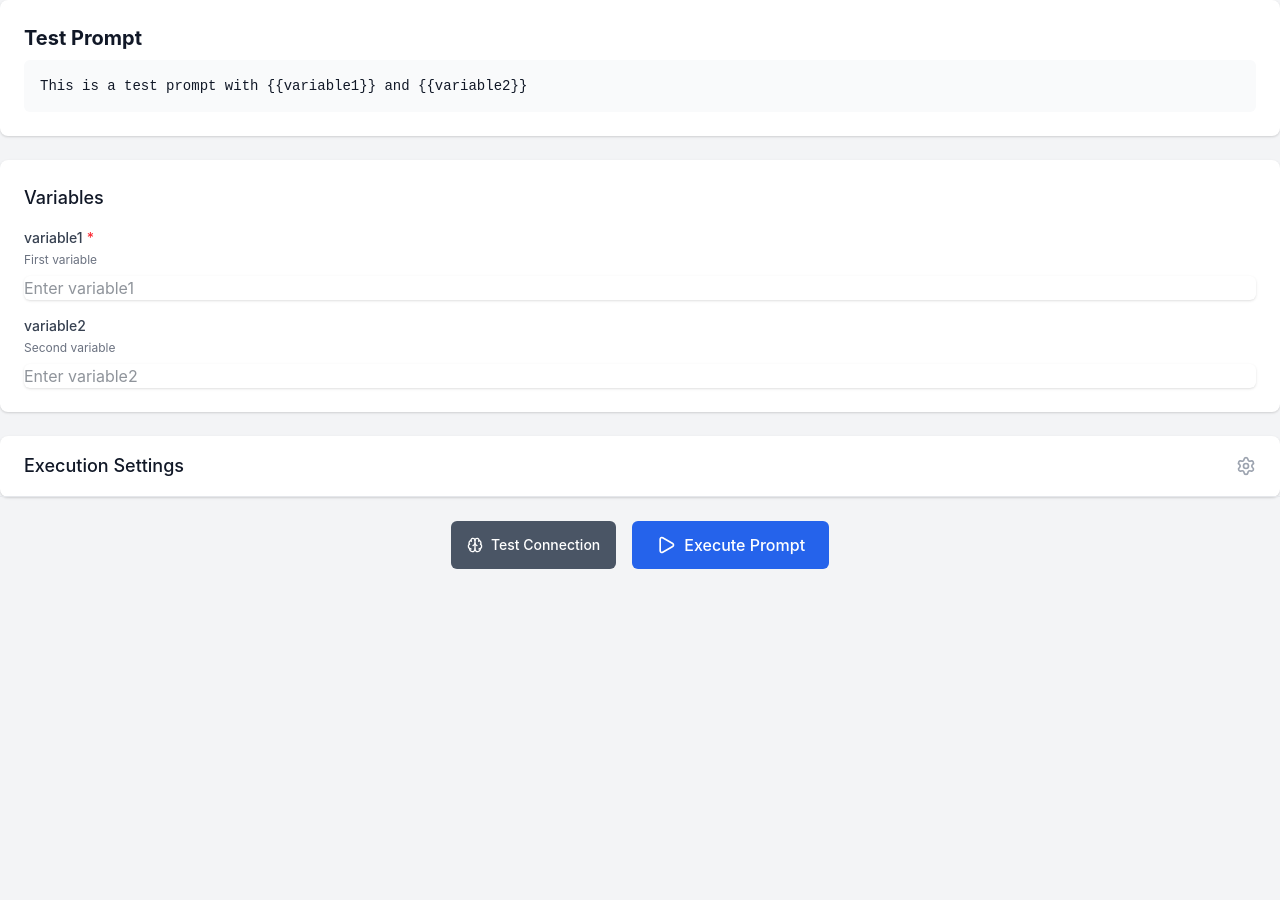
Test: PromptExecutor › allows enabling RAG and shows document selection
The width and height of the screenshot is (1280, 900).
// Open settings
Click the button "Execution Settings": (104, 466) top-left (24, 452), bottom-right (1256, 480)
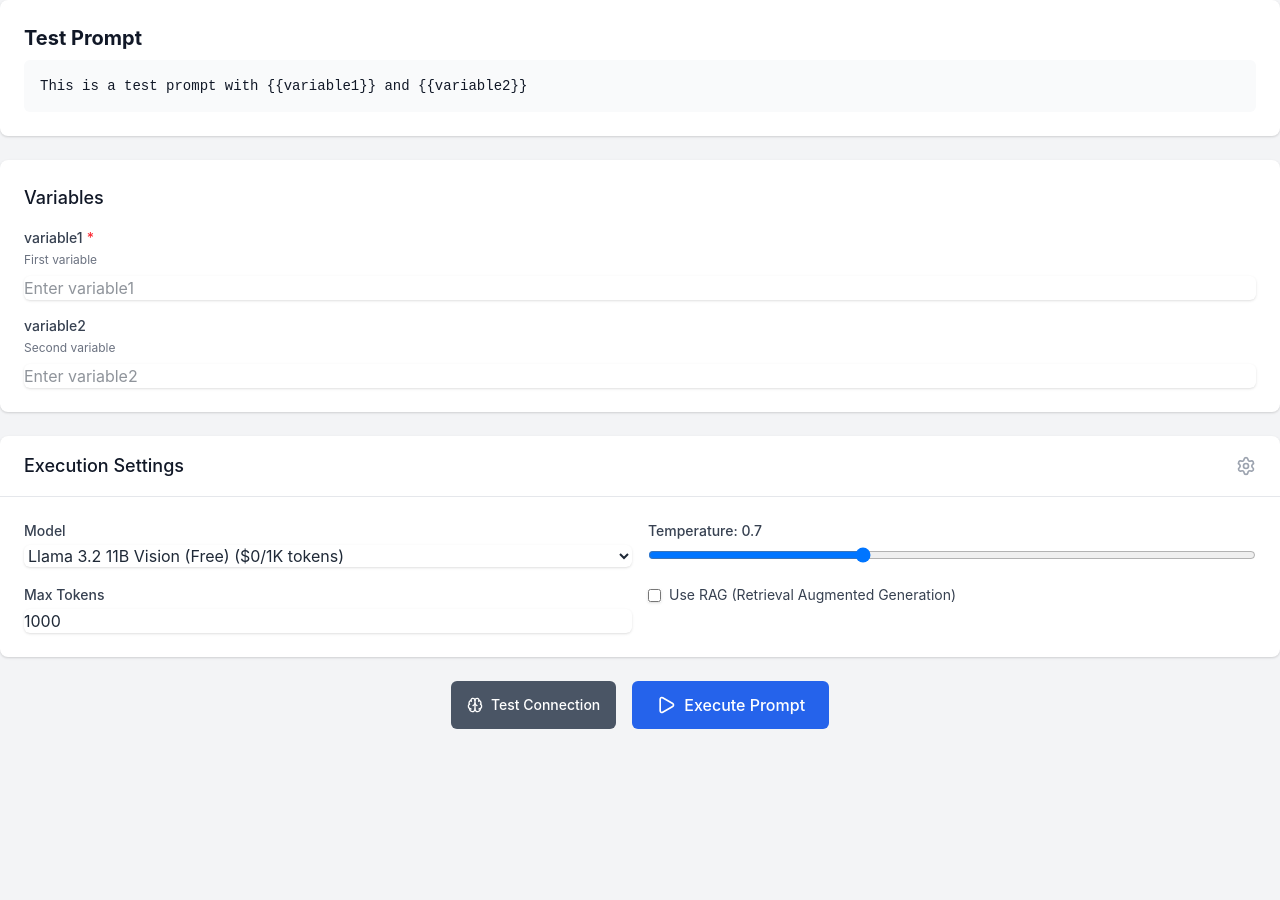
// Enable RAG
Click the checkbox labelled "Use RAG (Retrieval Augmented Generation)": (654, 595) top-left (648, 588), bottom-right (661, 602)
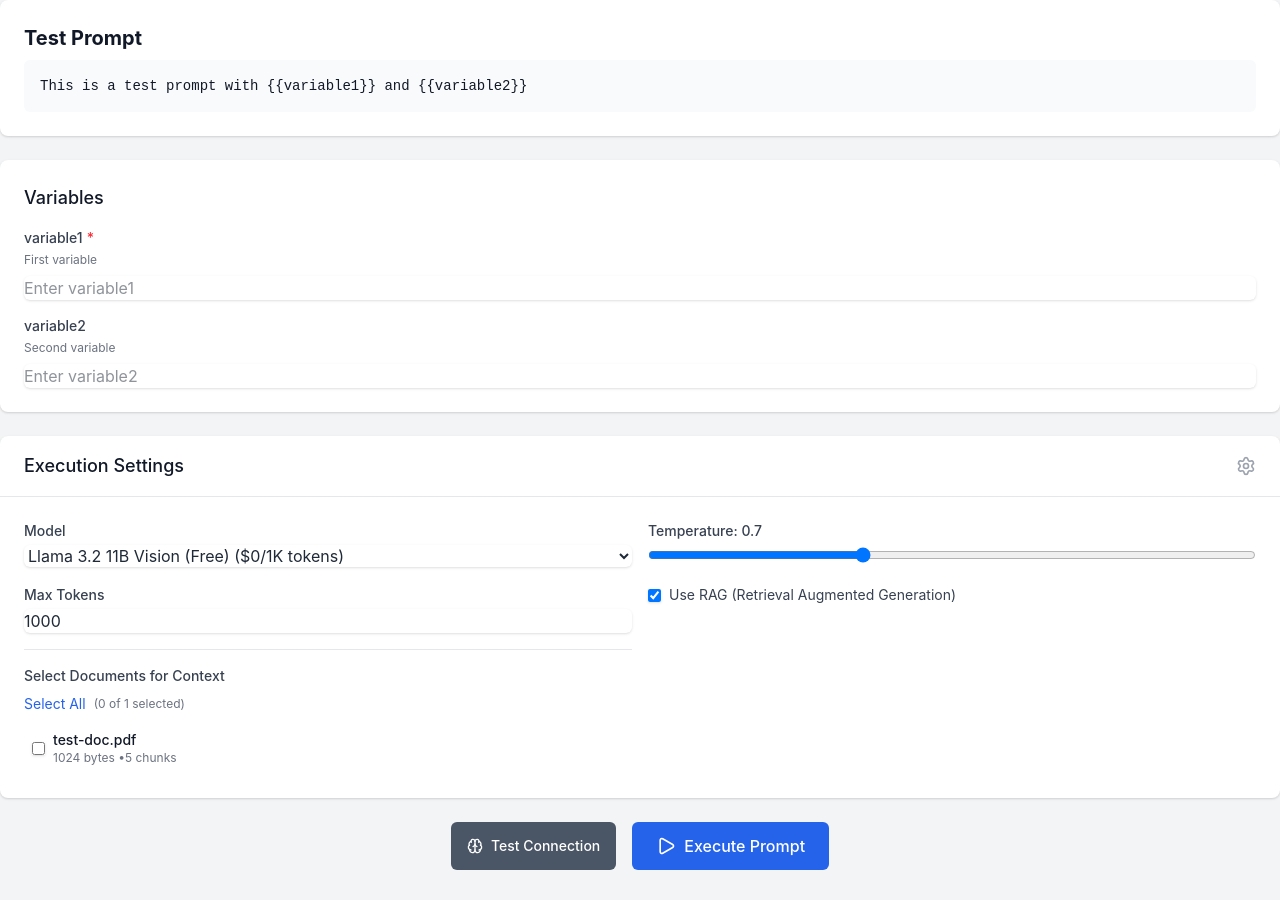
Check: the text "Select Documents for Context" is shown, box top-left (24, 667), bottom-right (225, 684)
Check: the text "test-doc.pdf" is shown, box top-left (53, 731), bottom-right (136, 748)
